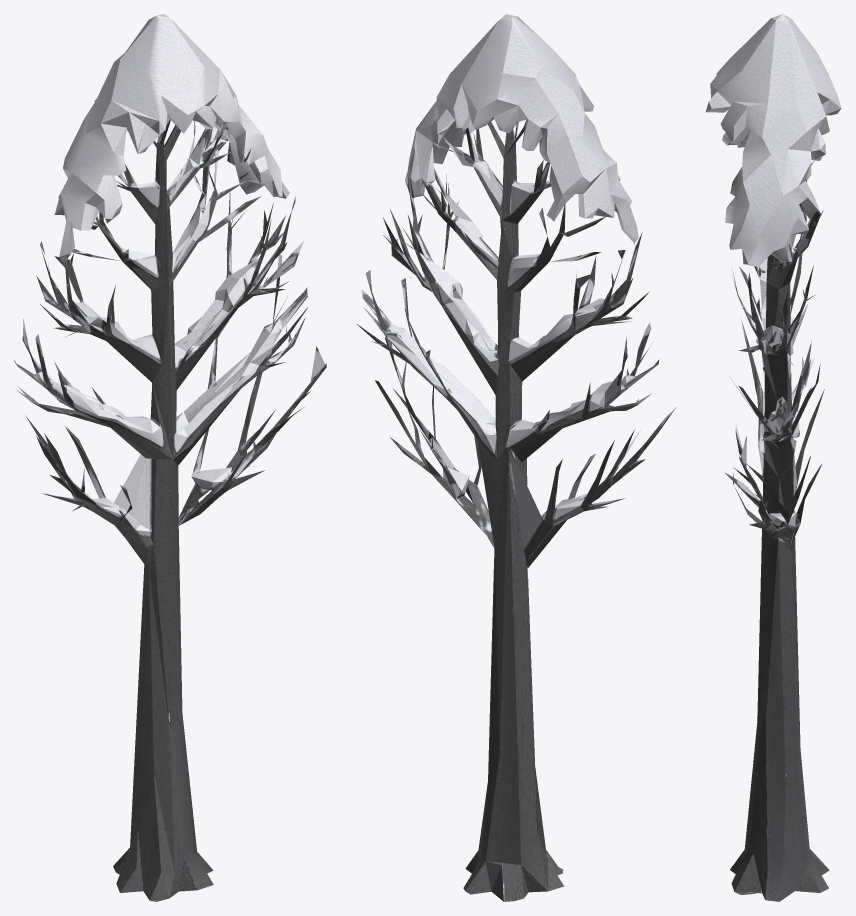
File: tree_beech_winter.glb
3 views of the same model, side by side, from view 1: azimuth 30°, elevation 25°; view 2: azimuth 150°, elevation 25°; view 3: azimuth 270°, elevation 25° (orthographic).
Visible parts, largest first — view 1: Mesh_0; view 2: Mesh_0; view 3: Mesh_0.
Boxes of the visible parts, box(x1,y1,x2,y2) form: Mesh_0: box(14, 14, 326, 901); Mesh_0: box(356, 14, 676, 901); Mesh_0: box(705, 14, 841, 901).
Size of the model in its own units: 0.6866 by 1.9 by 0.271.
Materials: 1 (1 with a texture image).
